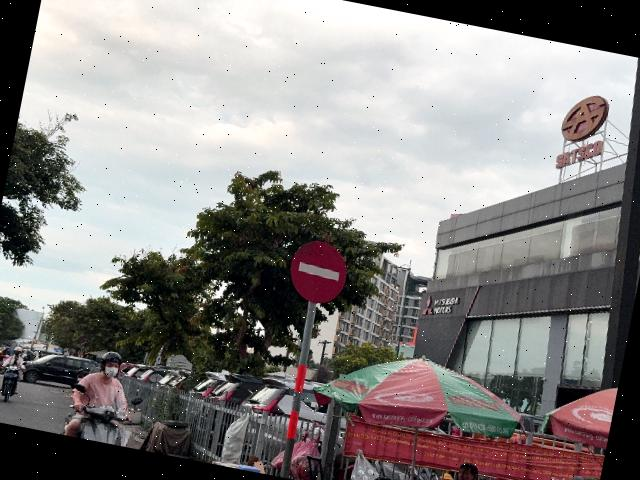cam-di-nguoc-chieu: (284, 236, 350, 308)
